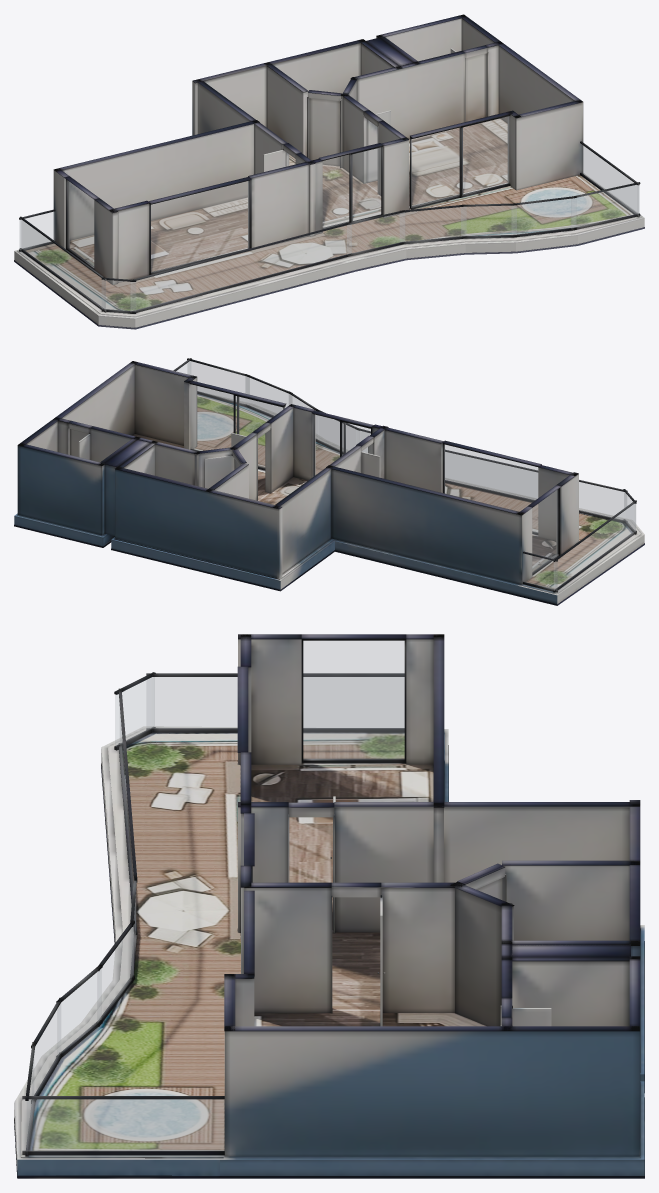
3 views of the same model, one above another, from view 1: azimuth 30°, elevation 25°; view 2: azimuth 150°, elevation 25°; view 3: azimuth 270°, elevation 25° (orthographic). The views are drawn at different scales.
Parts seen in each view (by area): view 1: plan, glass1_m, railg8_m, glass3_m, glass2_m, railg2_m, railg3_m, railg6_m, railg4_m, glass0_m, railg7_m, railg5_m (+3 smaller); view 2: plan, glass1_m, glass3_m, railg8_m, railg2_m, glass2_m, glass0_m, railg3_m, railg0_m, railg4_m, railg6_m; view 3: plan, glass0_m, railg1_m, railg2_m, railg5_m, railg9_m, railg6_m, railg4_m.
Boxes of the visible parts, x1,y1,x2,y2 form: plan: (14,14,644,329); glass1_m: (151,181,249,272); railg8_m: (130,224,351,311); glass3_m: (411,116,508,207); glass2_m: (323,148,380,228); railg2_m: (21,220,105,309); railg3_m: (571,185,639,228); railg6_m: (400,207,466,241); railg4_m: (511,198,576,234); glass0_m: (67,180,93,266); railg7_m: (347,212,404,254); railg5_m: (461,205,516,236); plan: (14,358,644,605); glass1_m: (444,444,537,532); glass3_m: (190,384,282,467); railg8_m: (445,452,626,519); railg2_m: (554,504,635,590); glass2_m: (313,414,370,476); glass0_m: (532,490,557,571); railg3_m: (188,361,249,403); railg0_m: (523,554,557,589); railg4_m: (245,376,291,415); railg6_m: (319,416,359,451); plan: (14,634,644,1178); glass0_m: (303,641,404,759); railg1_m: (22,1099,224,1150); railg2_m: (147,677,403,728); railg5_m: (58,969,101,1054); railg9_m: (115,677,154,746); railg6_m: (97,925,133,1022); railg4_m: (33,1004,60,1095).
Bounding box in the file's own units: 16.71 × 2.62 × 10.27.
2 materials, 1 textured.
